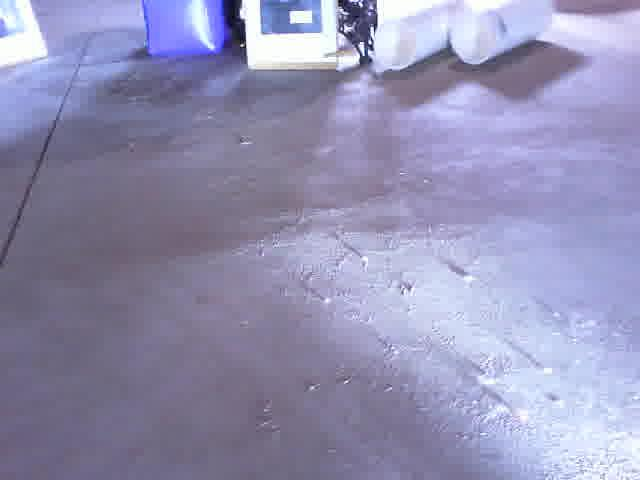coral: (446, 0, 558, 68), (369, 0, 470, 75)
